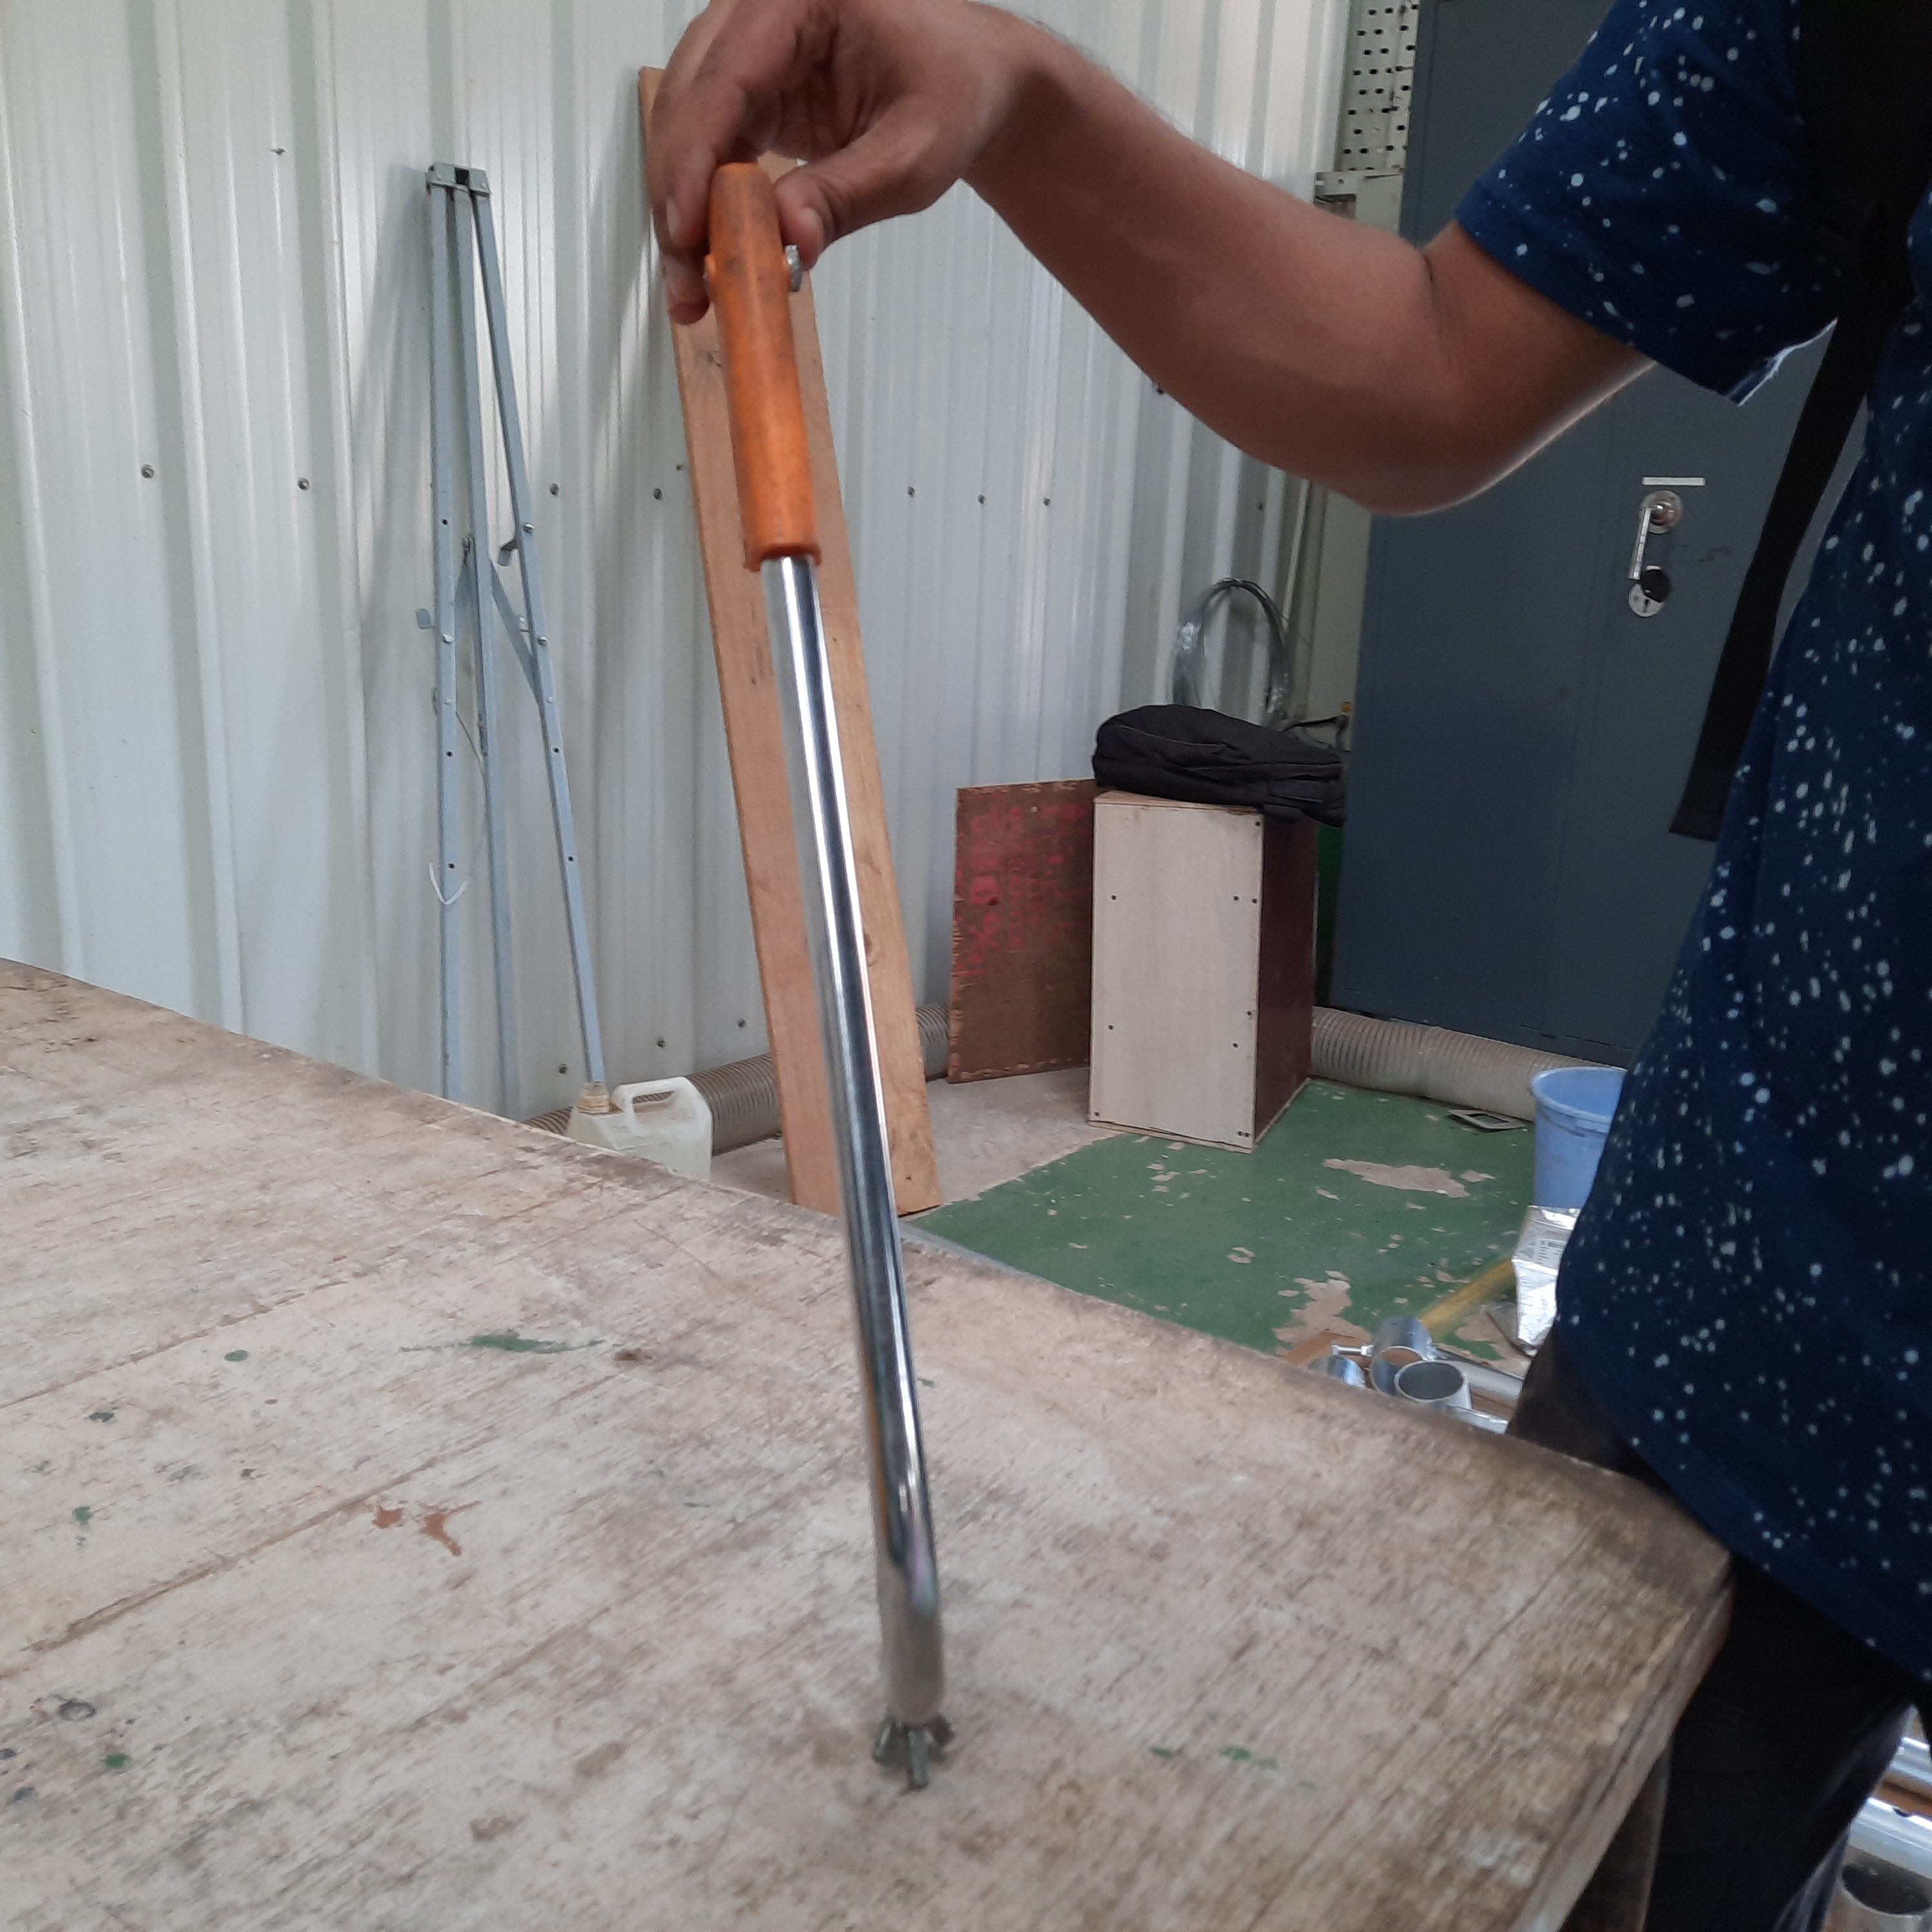Hexaframe: (614, 161, 1065, 1776)
